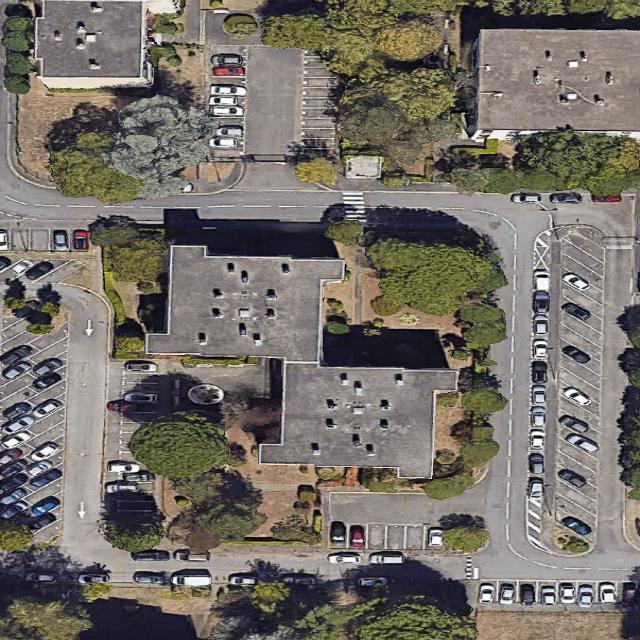immeuble: (145, 241, 344, 371), (259, 361, 456, 479), (466, 30, 639, 139), (32, 0, 151, 89)
